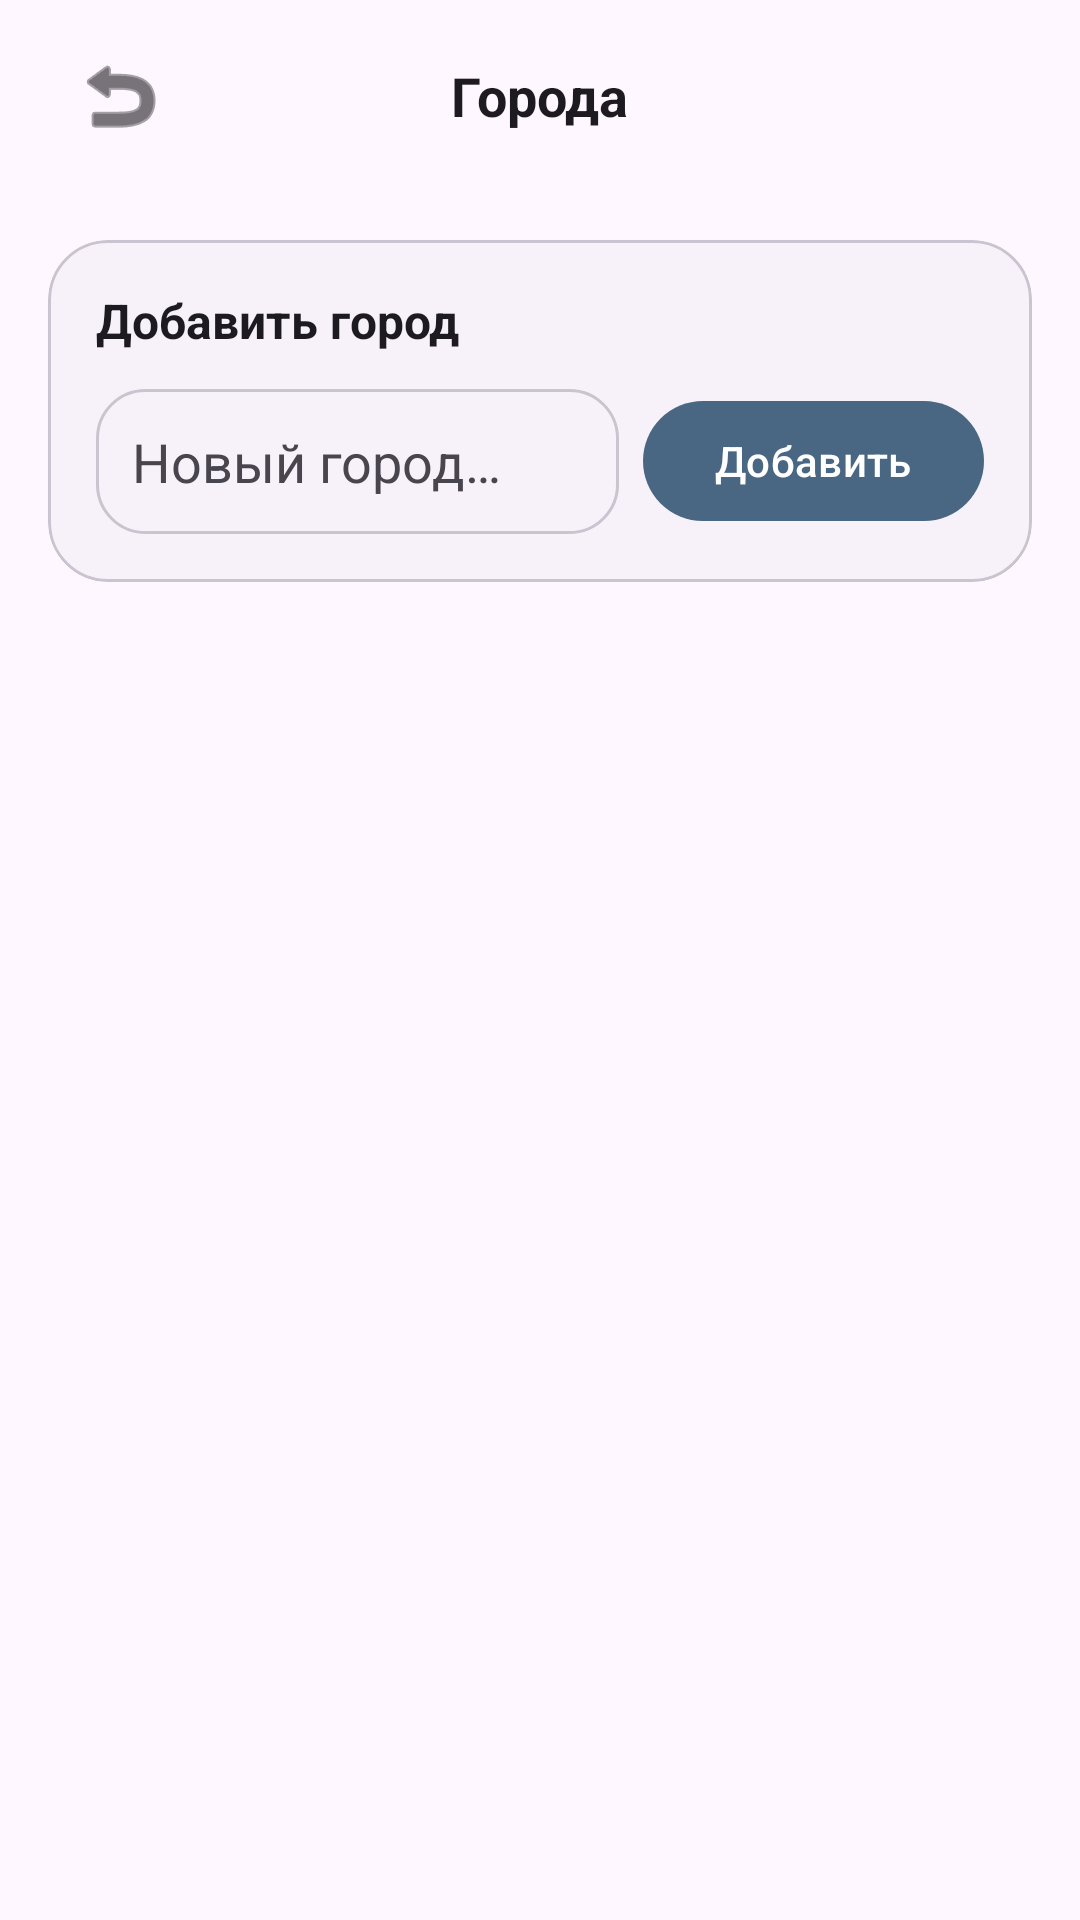

Icon bounding boxes for this 1080px×1920px phone screenshot, format [x1,y1,x2,y2]:
Назад: [87,65,156,128]
